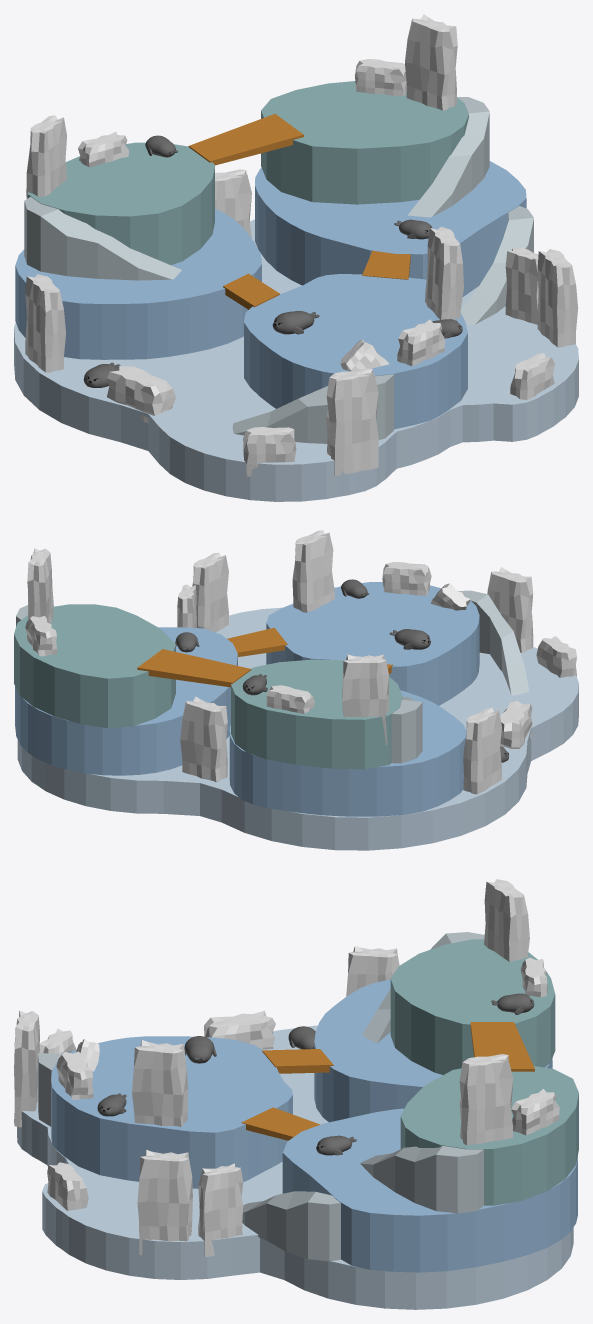
The model's file is IceFortressInhabited.gltf.
3 renders of one model, top to bottom at view 1: azimuth 30°, elevation 25°; view 2: azimuth 150°, elevation 25°; view 3: azimuth 270°, elevation 25°, orthographic. The views are drawn at different scales.
Parts seen in each view (by area): view 1: Cylinder, Cylinder.003, Cylinder.005, Cylinder.001, Cylinder.002, Cylinder.004, Cube, Cube.017, Cube.024, Cube.001, Cube.003, Cube.010 (+17 smaller); view 2: Cylinder, Cylinder.005, Cylinder.003, Cylinder.001, Cylinder.004, Cylinder.002, Cube.018, Cube.021, Cube.007, Cube.011, Cube.003, Cube.017 (+13 smaller); view 3: Cylinder, Cylinder.002, Cylinder.003, Cylinder.004, Cylinder.005, Cylinder.001, Cube.001, Cube.002, Cube.010, Cube.024, Cube.021, Cube.009 (+16 smaller).
Boxes of the visible parts, x1,y1,x2,y2 form: Cylinder: [14, 219, 578, 501]; Cylinder.003: [244, 274, 467, 429]; Cylinder.005: [261, 81, 468, 204]; Cylinder.001: [15, 209, 261, 359]; Cylinder.002: [255, 161, 526, 296]; Cylinder.004: [27, 142, 214, 264]; Cube: [24, 197, 181, 280]; Cube.017: [326, 368, 378, 475]; Cube.024: [405, 14, 457, 110]; Cube.001: [408, 97, 489, 217]; Cube.003: [232, 374, 393, 443]; Cube.010: [537, 249, 578, 347]; Cylinder: [17, 607, 578, 850]; Cylinder.005: [14, 604, 175, 728]; Cylinder.003: [266, 582, 479, 705]; Cylinder.001: [229, 690, 466, 816]; Cylinder.004: [231, 659, 402, 769]; Cylinder.002: [15, 627, 237, 775]; Cube.018: [180, 696, 227, 782]; Cube.021: [292, 530, 334, 612]; Cube.007: [342, 654, 388, 744]; Cube.011: [463, 708, 501, 794]; Cube.003: [457, 590, 529, 695]; Cube.017: [487, 567, 533, 652]; Cylinder: [17, 1025, 573, 1309]; Cylinder.002: [282, 1108, 577, 1272]; Cylinder.003: [51, 1036, 292, 1188]; Cylinder.004: [390, 939, 555, 1074]; Cylinder.005: [400, 1066, 578, 1205]; Cylinder.001: [314, 979, 552, 1122]; Cube.001: [360, 1146, 483, 1213]; Cube.002: [242, 1191, 340, 1261]; Cube.010: [137, 1150, 192, 1255]; Cube.024: [459, 1054, 513, 1145]; Cube.021: [132, 1040, 188, 1126]; Cube.009: [198, 1163, 243, 1257].
Size of the model in its own units: 40.2 by 17.49 by 38.53.
8 materials, 1 textured.
